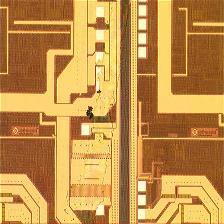PARTICLE: (83, 89, 105, 120)
